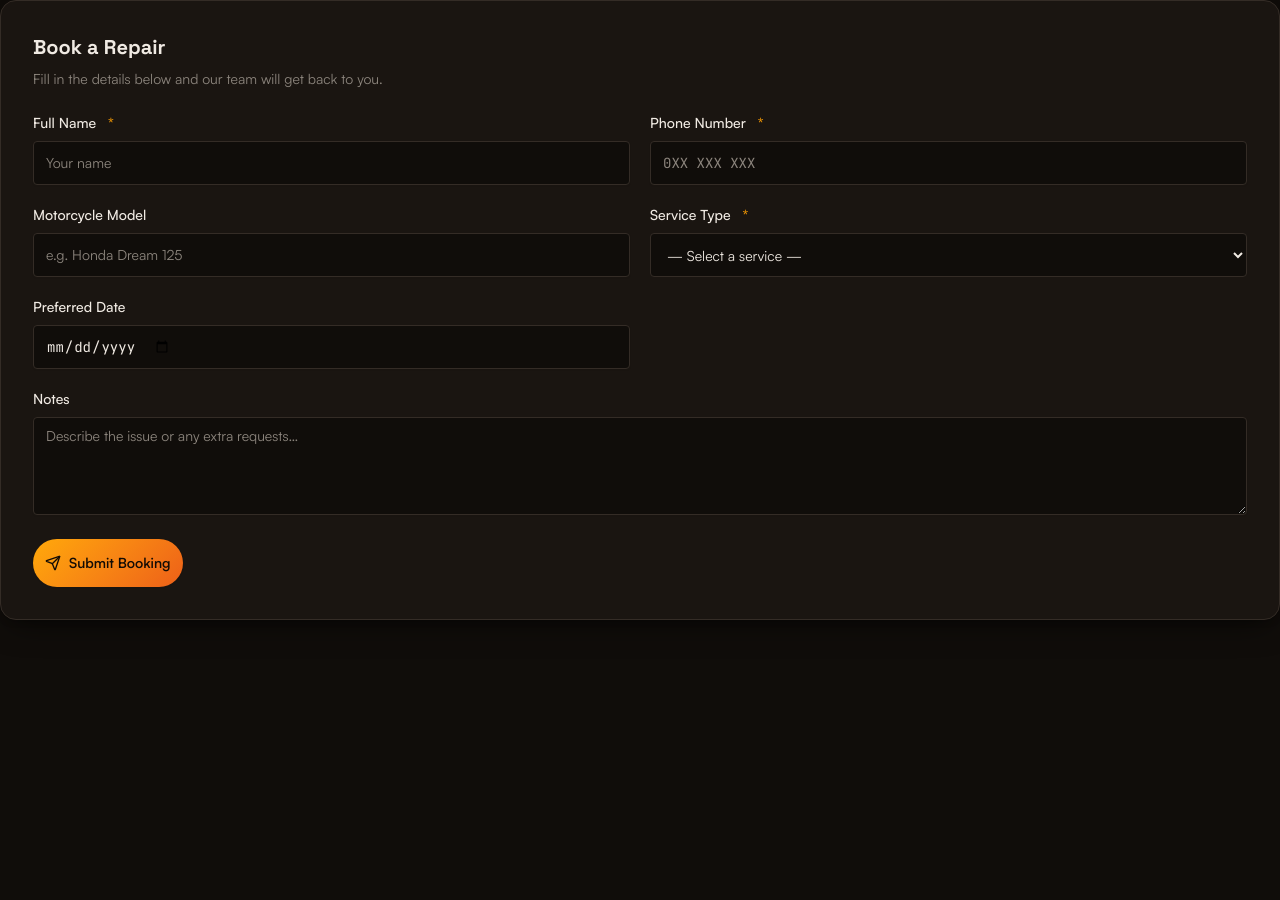
Test: BookingForm › submits a valid booking and shows the backend-issued reference
Step 1. Type "Sokha Chan" into the field with test id "booking.name_input" → x=332, y=163, box [33,141,630,185]
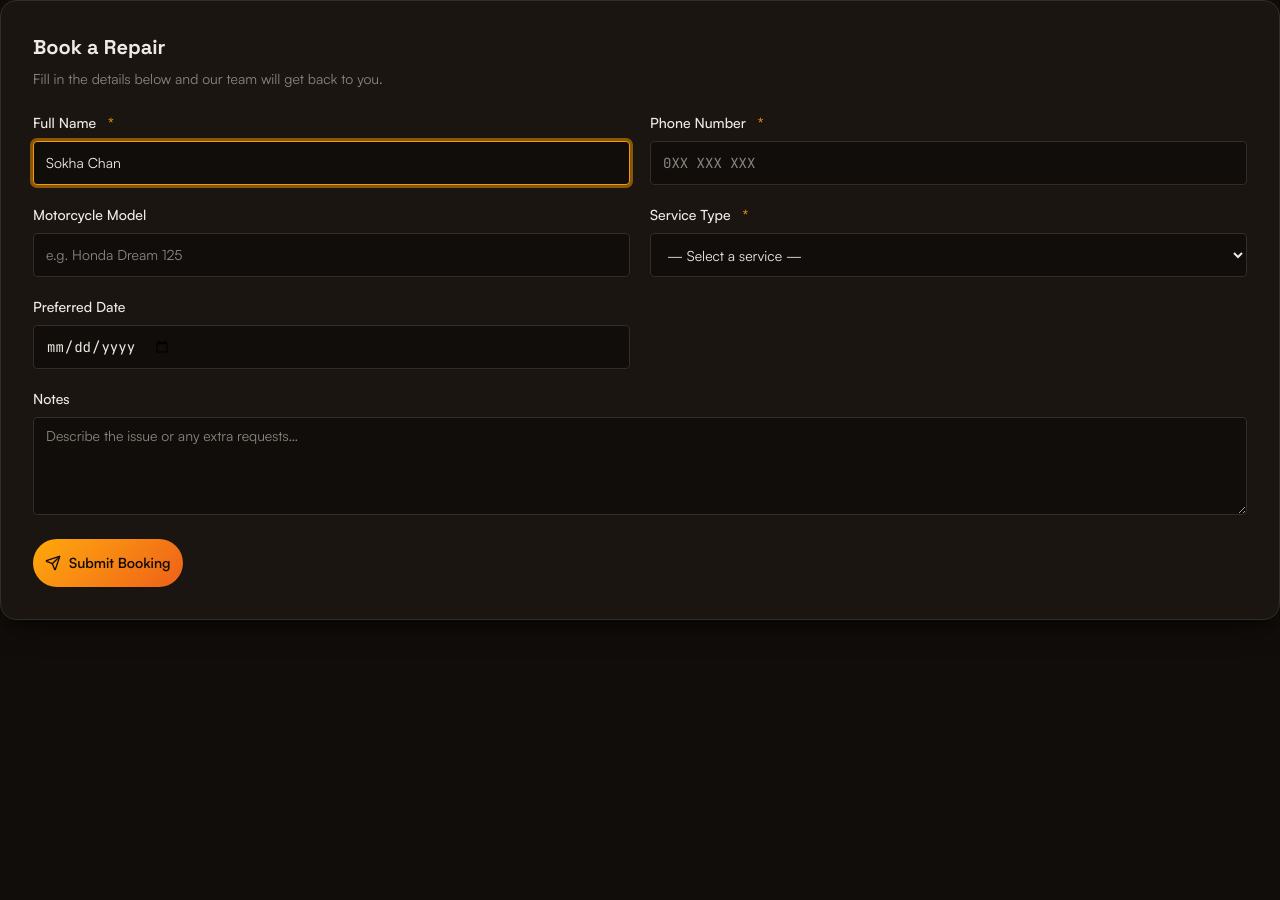
Step 2. Type "090833814" into the field with test id "booking.phone_input" → x=948, y=163, box [650,141,1247,185]
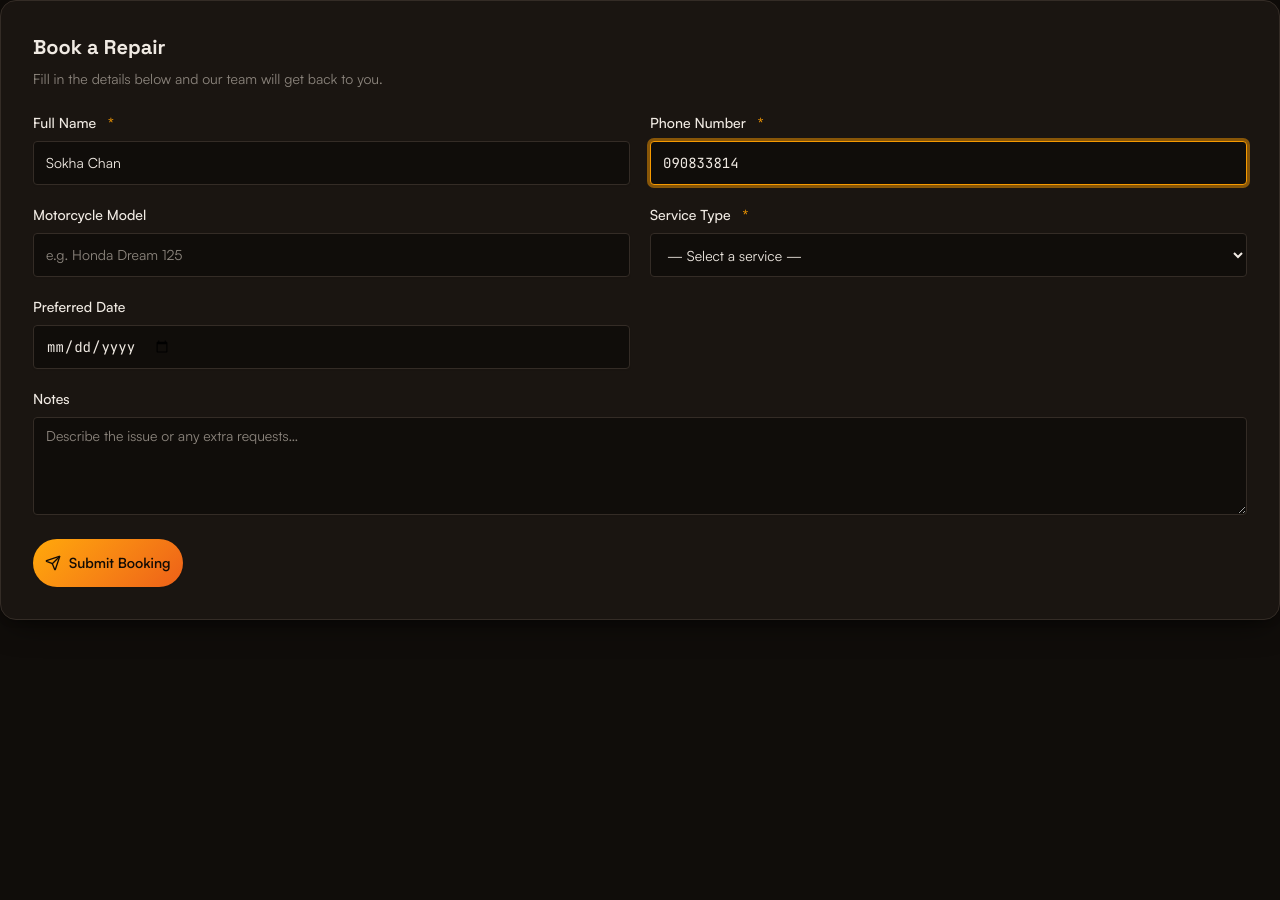
Step 3. Select "Engine Repair & Overhaul" in the dropdown with test id "booking.service_select" → x=948, y=255, box [650,233,1247,277]
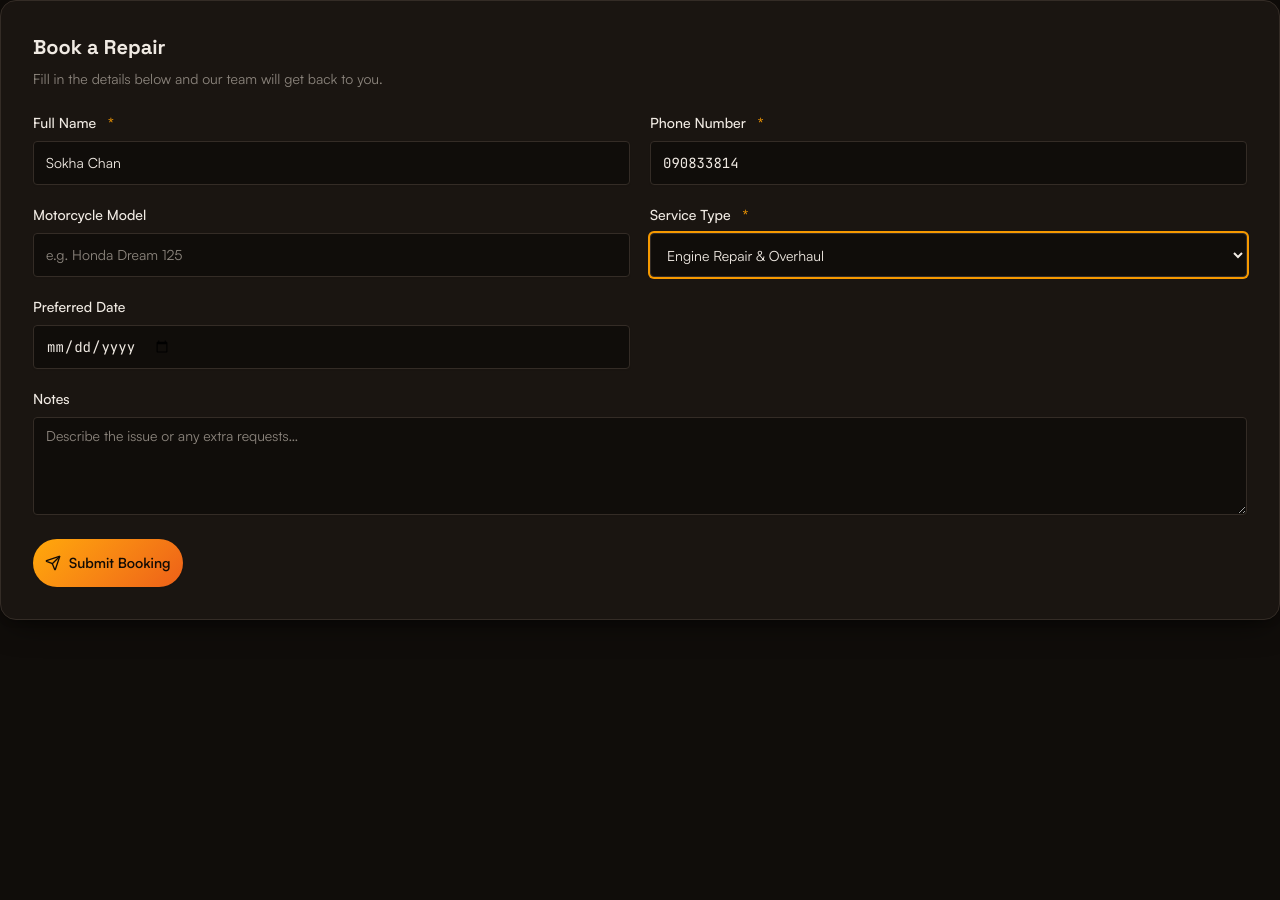
Step 4. Click the button with test id "booking.submit_button" → x=108, y=563, box [33,539,182,587]
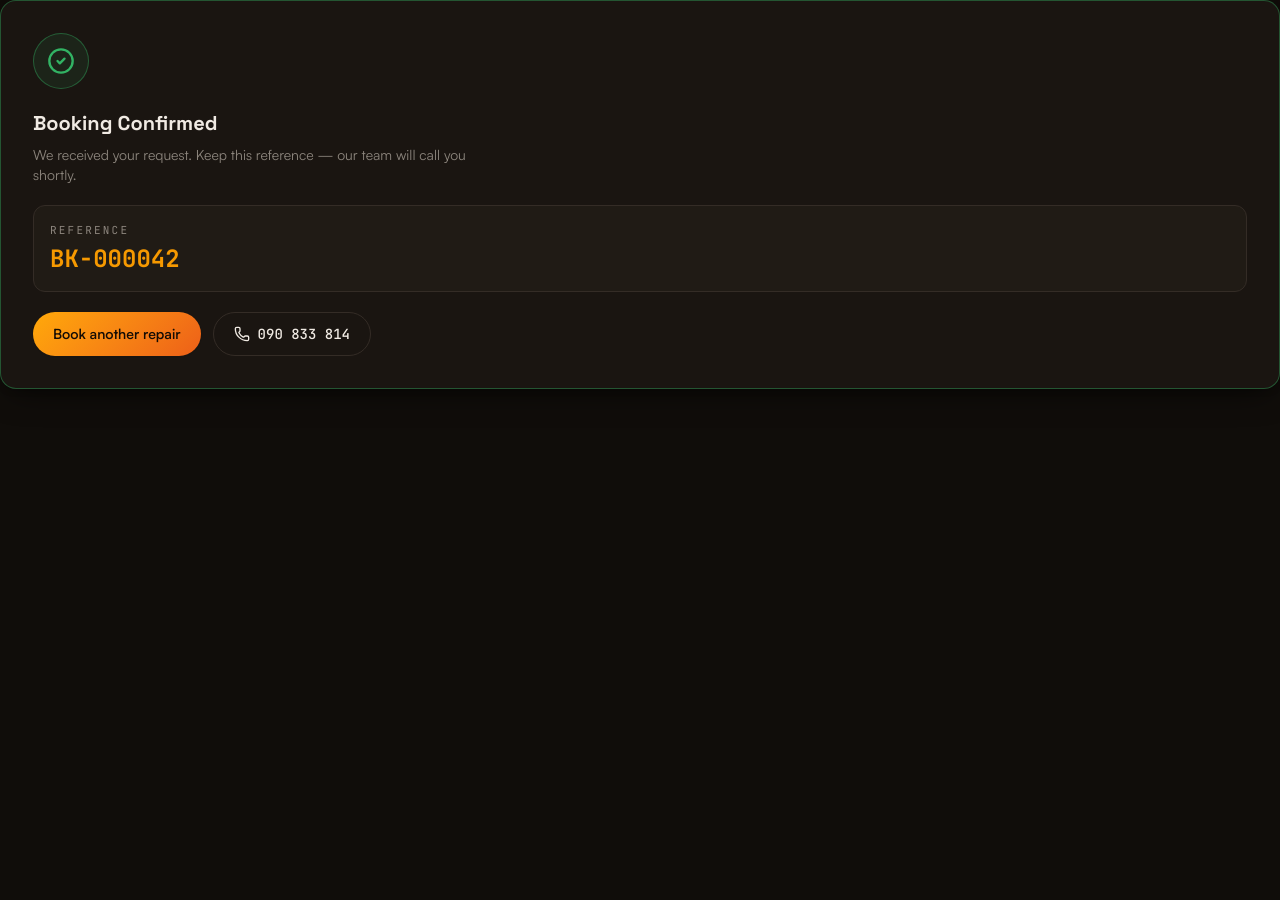
expect the element with test id "booking.success_state" is shown: met, box [0,0,1279,388]
expect the text with test id "booking.reference" reads "BK-000042": met, box [50,242,180,274]
